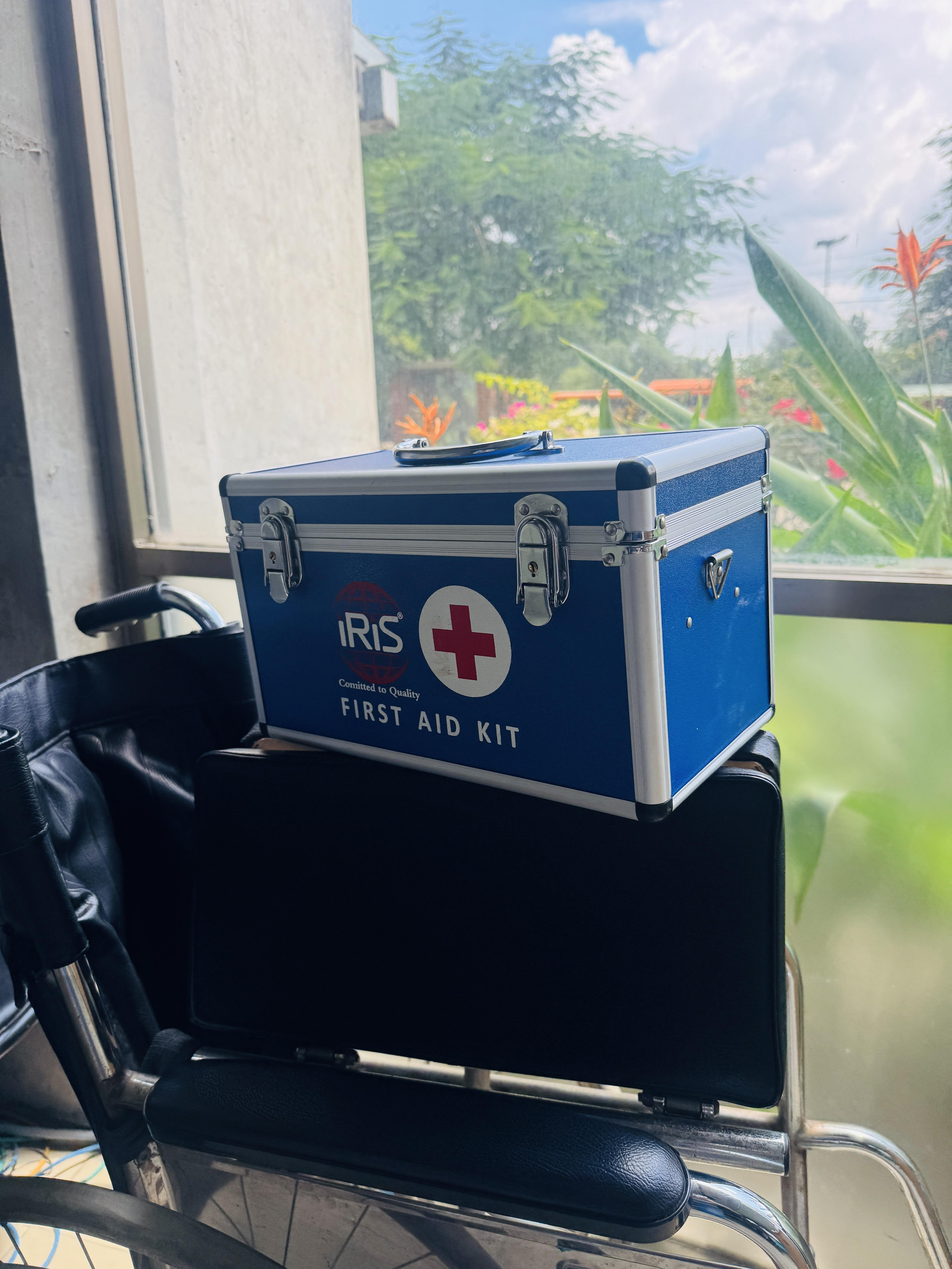FirstAidBox: (206, 415, 807, 833)
